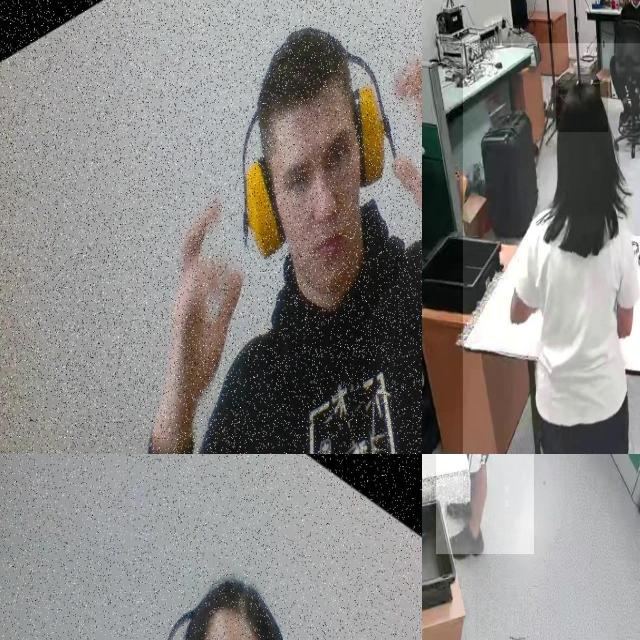Ear-protection: (215, 0, 421, 345), (134, 517, 329, 640)
head_nohelmet: (556, 80, 608, 133)
person: (462, 43, 640, 454), (435, 454, 534, 555), (615, 0, 640, 108)
shoes: (444, 522, 487, 565), (618, 98, 634, 127), (637, 100, 640, 130)
